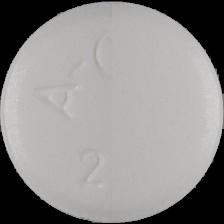21695-005: (0, 0, 224, 224)
